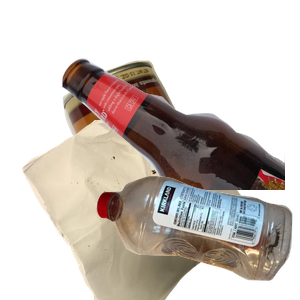glass: (60, 56, 300, 236)
metal: (60, 58, 300, 238)
plastic: (93, 173, 300, 300)
trash: (20, 120, 260, 300)
